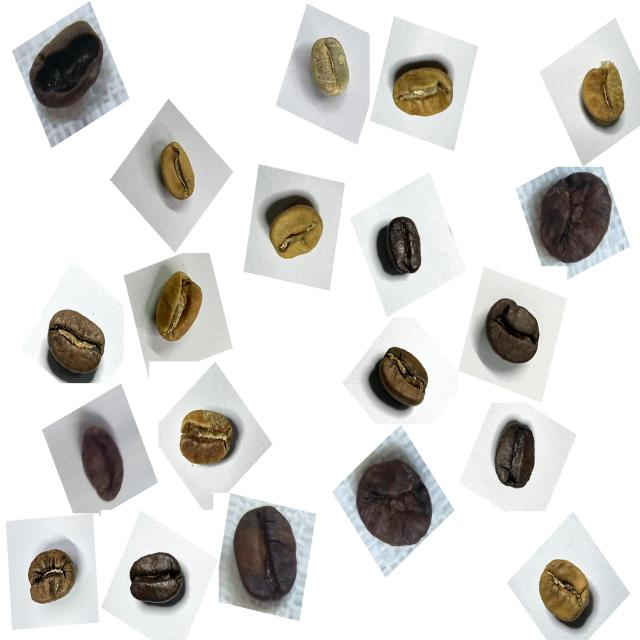bad: (22, 13, 111, 122), (354, 456, 440, 551), (535, 168, 616, 268), (231, 501, 311, 601), (67, 412, 133, 513)
dark: (476, 284, 550, 381), (117, 536, 193, 619), (482, 412, 548, 501), (372, 202, 436, 284)
green: (298, 28, 362, 112)
light: (381, 45, 463, 135), (255, 180, 332, 274), (144, 259, 219, 354), (165, 392, 247, 478), (528, 544, 604, 636), (568, 48, 639, 137), (150, 135, 209, 211)
medium: (36, 301, 115, 390), (19, 536, 87, 616), (372, 339, 438, 420)
